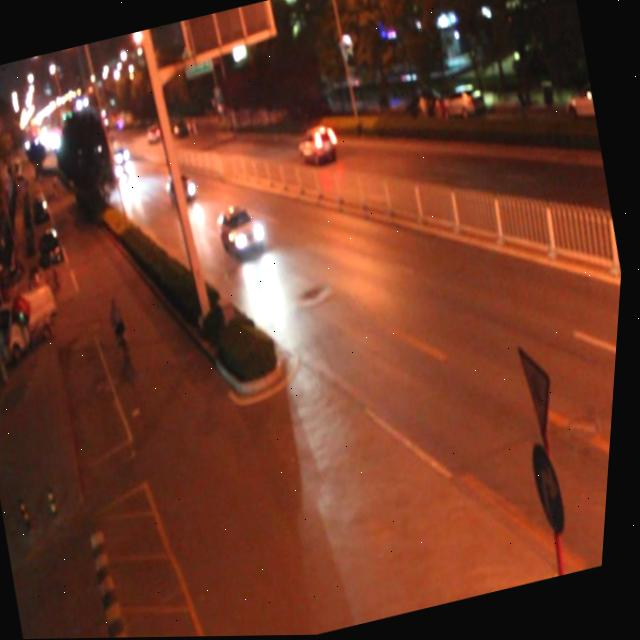car: (213, 198, 272, 259), (294, 120, 344, 168), (164, 166, 200, 204), (114, 158, 137, 181), (112, 142, 133, 164), (143, 122, 164, 142)
